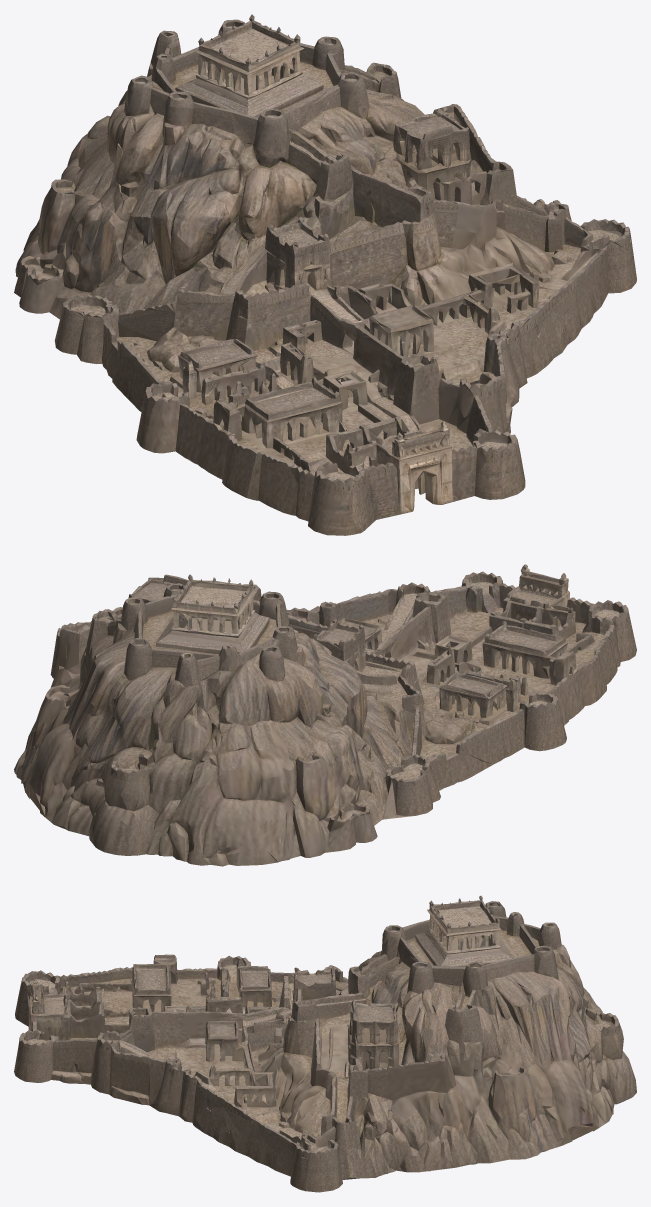
File: golconda.glb
The picture shows the model from 3 angles, top to bottom: view 1: azimuth 30°, elevation 25°; view 2: azimuth 150°, elevation 25°; view 3: azimuth 270°, elevation 25°; orthographic projection. The views are drawn at different scales.
Size of the model in its own units: 1.46 by 0.6009 by 1.9.
Materials: 1 (1 with a texture image).
